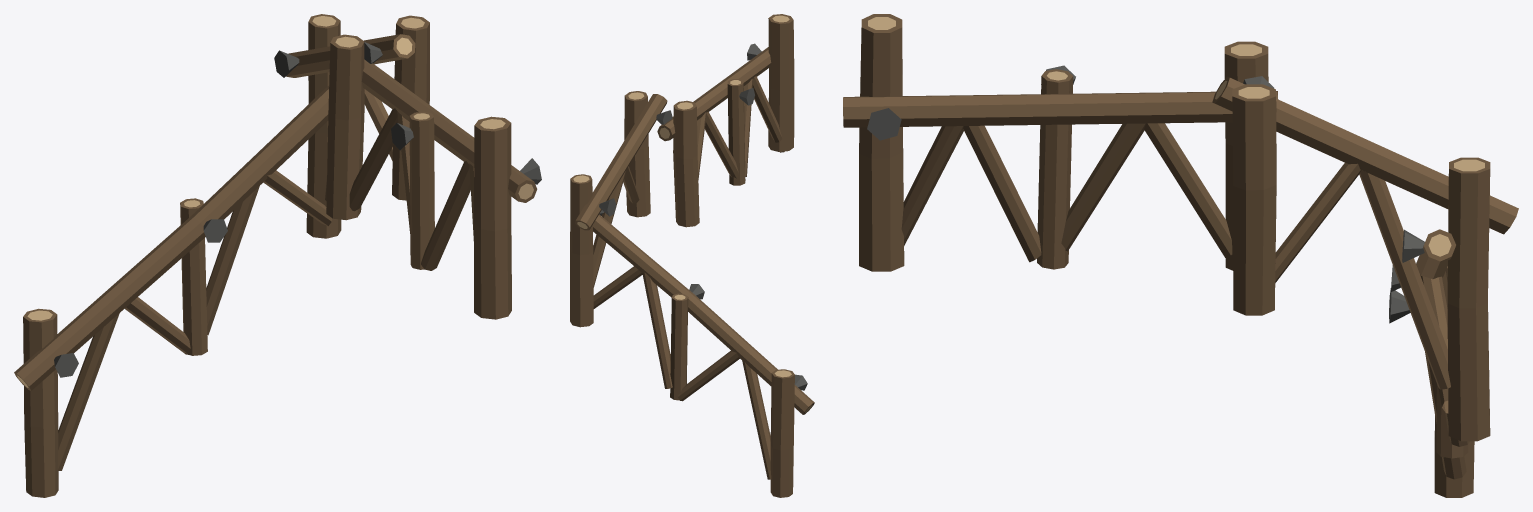
The model's file is rpgpp_ag_stairs_interior_02c_3m_handrail_02.fbx.
The picture shows the model from 3 angles, left to right: view 1: azimuth 30°, elevation 25°; view 2: azimuth 150°, elevation 25°; view 3: azimuth 270°, elevation 25°; orthographic projection. The views are drawn at different scales.
Visible parts, largest first — view 1: rpgpp_ag_stairs_interior_02c_3m_handrail_02; view 2: rpgpp_ag_stairs_interior_02c_3m_handrail_02; view 3: rpgpp_ag_stairs_interior_02c_3m_handrail_02.
Boxes of the visible parts, x1,y1,x2,y2 form: rpgpp_ag_stairs_interior_02c_3m_handrail_02: (14, 14, 541, 497); rpgpp_ag_stairs_interior_02c_3m_handrail_02: (570, 14, 814, 497); rpgpp_ag_stairs_interior_02c_3m_handrail_02: (843, 14, 1518, 497).
Bounding box in the file's own units: 3.35 × 4.42 × 4.47.
